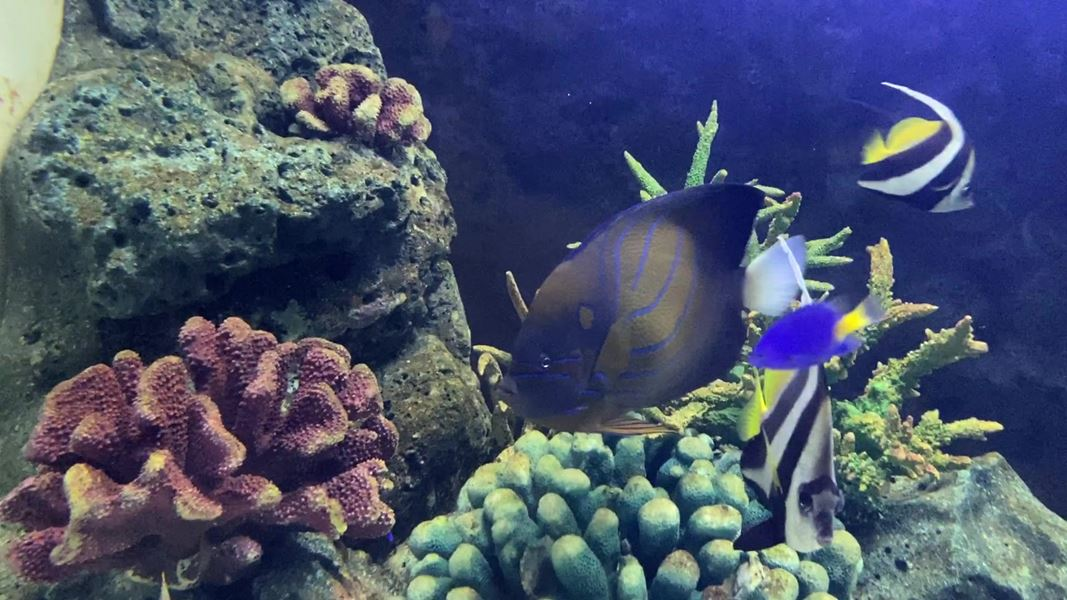Blue ring angelfish: (497, 173, 829, 463)
